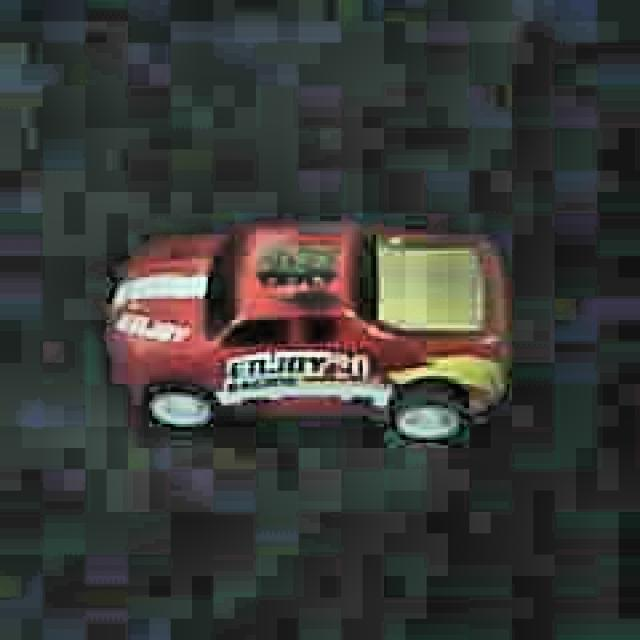car: (89, 212, 523, 453)
